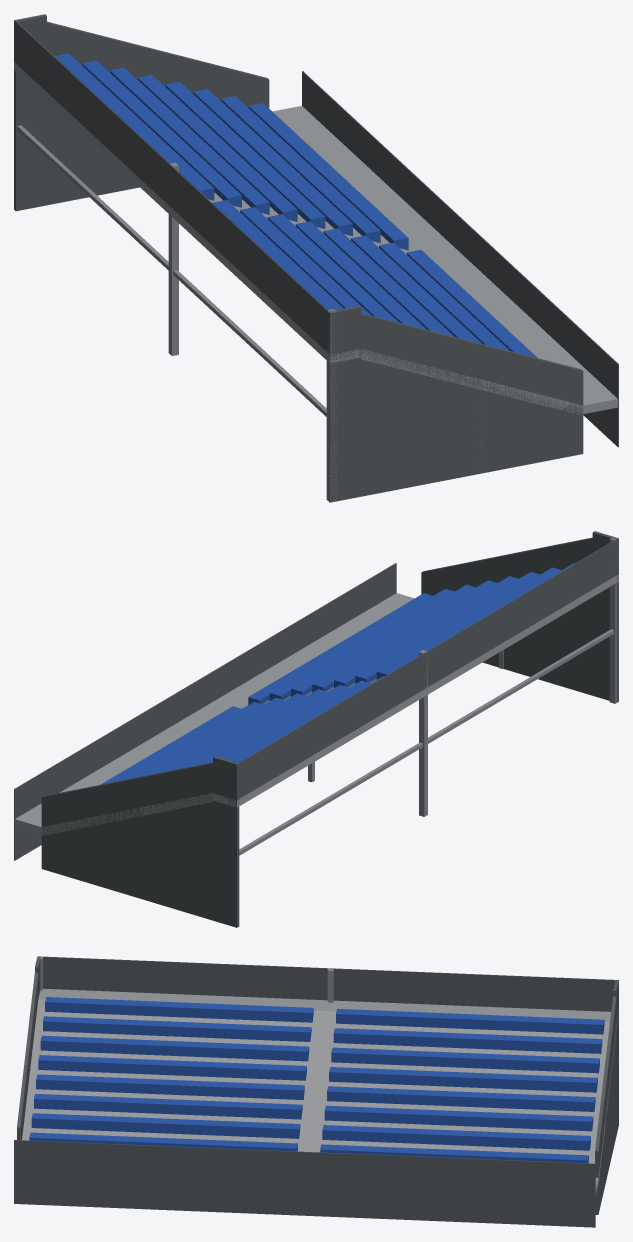
The model's file is mza_stand_ascari_uno.glb.
3 views of the same model, one above another, from view 1: azimuth 30°, elevation 25°; view 2: azimuth 150°, elevation 25°; view 3: azimuth 270°, elevation 25° (orthographic). The views are drawn at different scales.
Visible parts, largest first — view 1: monza-ascari-uno; view 2: monza-ascari-uno; view 3: monza-ascari-uno.
Part boxes in pixels (x1,y1,x2,y2): monza-ascari-uno: (14, 14, 618, 502); monza-ascari-uno: (14, 531, 618, 927); monza-ascari-uno: (14, 956, 618, 1227).
Size of the model in its own units: 10.21 by 5.48 by 20.7.
